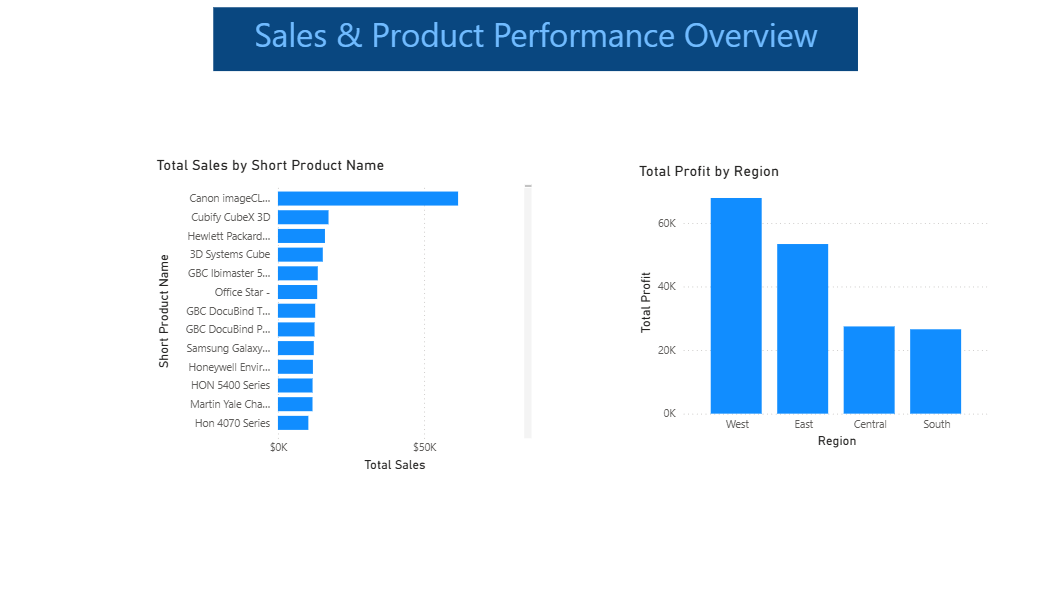

What the dashboard file says about the page in this screenshot:
{"tool":"powerbi","page":{"name":"Page 2","canvas":[1280,720],"ordinal":1},"visuals":[{"type":"textbox","box":[280.8,18.5,735.5,72.7],"z":0},{"type":"barChart","fields":{"Category":["retail_sales_data.Short Product Name"],"Y":["retail_sales_data.Total Sales"]},"box":[211,188.2,437.6,364.9],"z":1000},{"type":"columnChart","fields":{"Category":["retail_sales_data.Region"],"Y":["retail_sales_data.Total Profit"]},"box":[761.2,195.3,410.5,330.7],"z":2000}]}

Visuals, with their boxes in screenshot pixels (x1, y1, x2, y2), scaled from the page's 1280x720 canvas onto the 1061x601 screenshot:
textbox: Rect(233, 15, 842, 76)
barChart - retail_sales_data.Short Product Name x retail_sales_data.Total Sales: Rect(175, 157, 538, 462)
columnChart - retail_sales_data.Region x retail_sales_data.Total Profit: Rect(631, 163, 971, 439)
